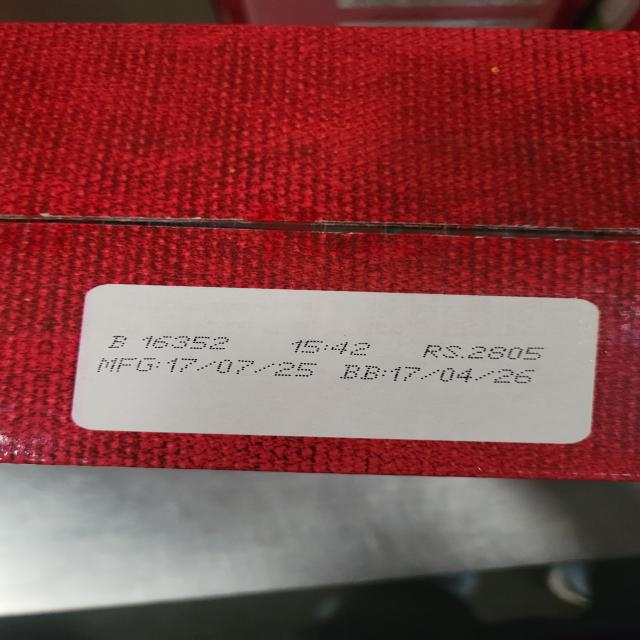BB: (340, 365, 539, 384)
Batch: (107, 335, 236, 351)
MFG: (100, 357, 321, 377)
RS: (424, 344, 549, 360)
TimeStamp: (288, 340, 373, 356)
